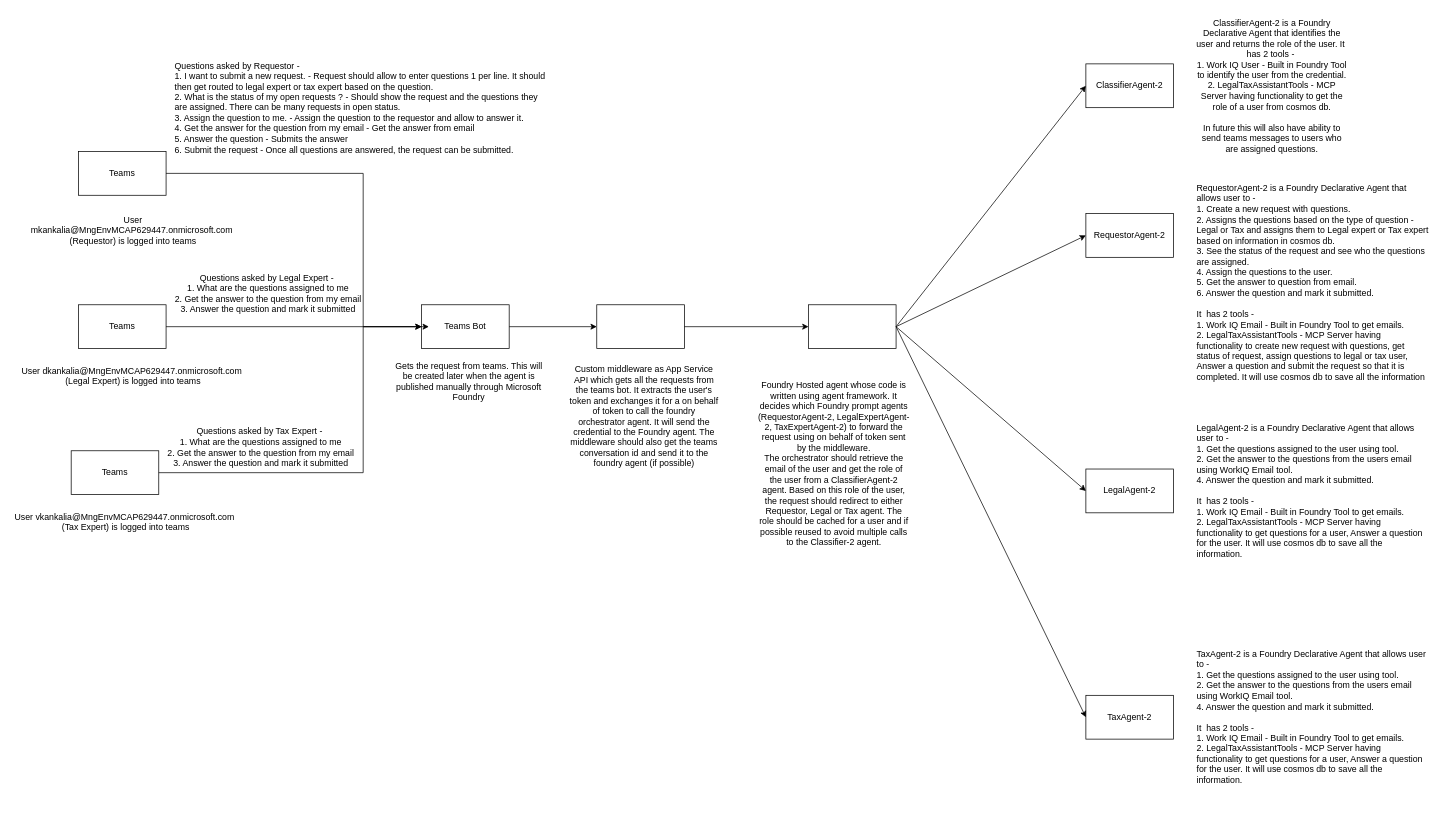
Image size: 1441x821. Some labels were removed from this diagram. Each missing label, with the centre of its shape:
Custom API Middleware: (x=640, y=326)
Orchestrator: (x=852, y=326)
